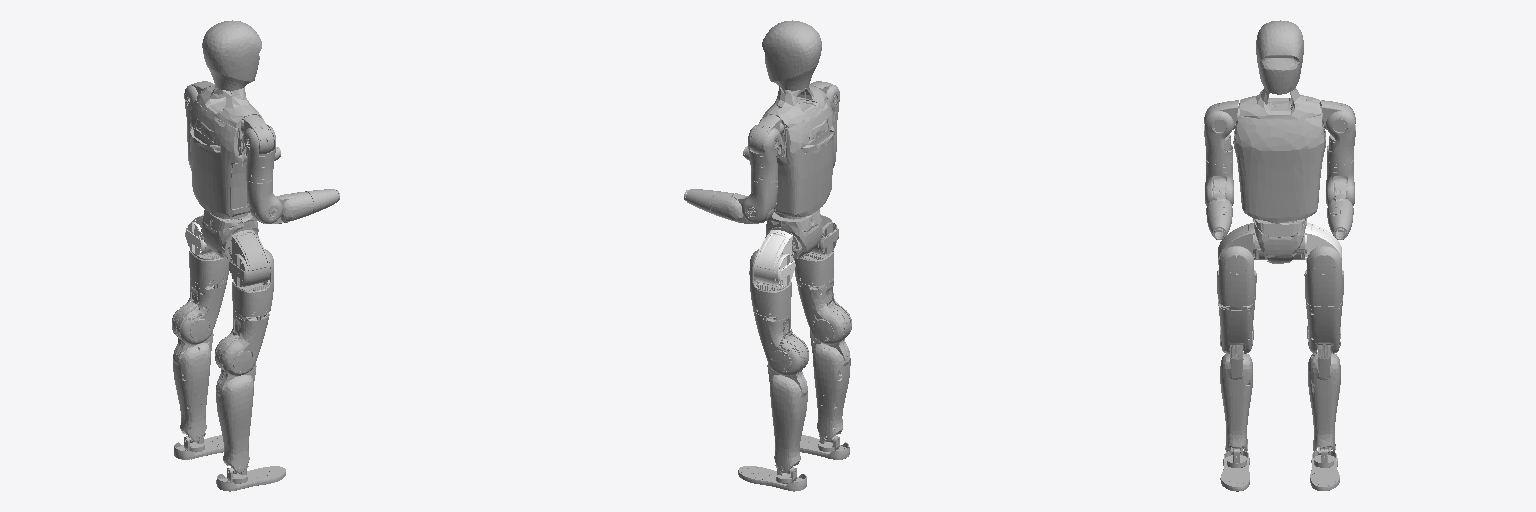
--- Facts derived from the render (not from the file) ---
Views: 3 orthographic renders of the robot side by side, from view 1: azimuth 30°, elevation 25°; view 2: azimuth 150°, elevation 25°; view 3: azimuth 270°, elevation 25°.
Robot: MagicBotZ1 — 31 links, 30 joints (14 revolute, 16 fixed); root link pelvis; default pose: all joints at 0.
Links seen in each view (by area): view 1: link_wy, LINK_KNEE_PITCH_L, LINK_KNEE_PITCH_R, link_hy, LINK_HIP_YAW_R, LINK_HIP_YAW_L, LINK_HIP_PITCH_R, pelvis, LINK_HIP_ROLL_R, link_ra2, LINK_ANKLE_ROLL_R, LINK_HIP_ROLL_L (+5 smaller); view 2: link_wy, LINK_KNEE_PITCH_L, LINK_KNEE_PITCH_R, link_hy, LINK_HIP_YAW_R, LINK_HIP_YAW_L, LINK_HIP_PITCH_L, pelvis, LINK_HIP_ROLL_L, link_la2, LINK_ANKLE_ROLL_L, LINK_HIP_ROLL_R (+5 smaller); view 3: link_wy, link_hy, LINK_KNEE_PITCH_L, LINK_KNEE_PITCH_R, LINK_HIP_ROLL_R, LINK_HIP_ROLL_L, pelvis, LINK_HIP_YAW_R, LINK_HIP_YAW_L, link_ra2, link_la2, LINK_ANKLE_ROLL_R (+9 smaller).
Link boxes in pixels (box(x1,y1,x2,y2)): link_wy: box(190, 86, 264, 218); LINK_KNEE_PITCH_L: box(173, 304, 213, 441); LINK_KNEE_PITCH_R: box(216, 335, 256, 473); link_hy: box(202, 20, 261, 90); LINK_HIP_YAW_R: box(215, 310, 269, 375); LINK_HIP_YAW_L: box(172, 278, 226, 344); LINK_HIP_PITCH_R: box(229, 230, 270, 286); pelvis: box(201, 210, 258, 259); LINK_HIP_ROLL_R: box(232, 249, 273, 316); link_ra2: box(243, 125, 275, 182); LINK_ANKLE_ROLL_R: box(216, 466, 285, 491); LINK_HIP_ROLL_L: box(189, 250, 229, 285); link_wy: box(760, 85, 834, 218); LINK_KNEE_PITCH_L: box(767, 336, 807, 472); LINK_KNEE_PITCH_R: box(810, 304, 850, 441); link_hy: box(762, 20, 821, 90); LINK_HIP_YAW_R: box(796, 278, 851, 344); LINK_HIP_YAW_L: box(753, 310, 808, 375); LINK_HIP_PITCH_L: box(754, 230, 795, 286); pelvis: box(765, 209, 822, 259); LINK_HIP_ROLL_L: box(749, 249, 791, 316); link_la2: box(748, 125, 780, 182); LINK_ANKLE_ROLL_L: box(738, 465, 806, 491); LINK_HIP_ROLL_R: box(795, 250, 833, 285); link_wy: box(1233, 88, 1325, 223); link_hy: box(1256, 20, 1303, 94); LINK_KNEE_PITCH_L: box(1308, 343, 1340, 454); LINK_KNEE_PITCH_R: box(1220, 345, 1252, 454); LINK_HIP_ROLL_R: box(1217, 246, 1256, 306); LINK_HIP_ROLL_L: box(1304, 246, 1343, 306); pelvis: box(1253, 218, 1306, 263); LINK_HIP_YAW_R: box(1218, 299, 1255, 353); LINK_HIP_YAW_L: box(1306, 302, 1342, 353); link_ra2: box(1204, 103, 1233, 164); link_la2: box(1326, 103, 1355, 164); LINK_ANKLE_ROLL_R: box(1220, 449, 1249, 491).
Bounding box of the posed robot: 0.3639 × 0.4216 × 1.37 m (x, y, z).
Meshes: 25 distinct files referenced, 25 mesh visuals loaded (25 binary STL).

The robot description file, URDF, robot "MagicBotZ1":
<?xml version="1.0" encoding="utf-8"?>
<!-- This URDF was automatically created by SolidWorks to URDF Exporter! Originally created by Stephen Brawner ([email redacted]) 
     Commit Version: 1.6.0-4-g7f85cfe  Build Version: 1.6.7995.38578
     For more information, please see http://wiki.ros.org/sw_urdf_exporter -->
<robot
  name="MagicBotZ1">
  <link
    name="pelvis">
    <inertial>
      <origin
        xyz="0.0001 0 0.0044"
        rpy="0 0 0" />
      <mass
        value="3.4083" />
      <inertia
        ixx="0.0095"
        ixy="0"
        ixz="0"
        iyy="0.0056"
        iyz="0"
        izz="0.0094" />
    </inertial>
    <visual>
      <origin
        xyz="0 0 0"
        rpy="0 0 0" />
      <geometry>
        <mesh
          filename="../meshes/pelvis.STL" />
      </geometry>
      <material
        name="">
        <color
          rgba="0.75294 0.75294 0.75294 1" />
      </material>
    </visual>
  </link>
  <link
    name="LINK_HIP_PITCH_L">
    <inertial>
      <origin
        xyz="-0.0002 0.0495 -0.0399"
        rpy="0 0 0" />
      <mass
        value="1.5089" />
      <inertia
        ixx="0.002"
        ixy="0"
        ixz="0"
        iyy="0.0016"
        iyz="0.0003"
        izz="0.0014" />
    </inertial>
    <visual>
      <origin
        xyz="0 0 0"
        rpy="0 0 0" />
      <geometry>
        <mesh
          filename="../meshes/LINK_HIP_PITCH_L.STL" />
      </geometry>
      <material
        name="">
        <color
          rgba="1 1 1 1" />
      </material>
    </visual>
    <!-- <collision>
      <origin
        xyz="0 0 0"
        rpy="0 0 0" />
      <geometry>
        <mesh
          filename="../meshes/LINK_HIP_PITCH_L.STL" />
      </geometry>
    </collision> -->
  </link>
  <joint
    name="JOINT_HIP_PITCH_L"
    type="revolute">
    <origin
      xyz="0 0.06875 0"
      rpy="0 0 0" />
    <parent
      link="pelvis" />
    <child
      link="LINK_HIP_PITCH_L" />
    <axis
      xyz="0 1 0" />
    <limit
      lower="-2.7925"
      upper="2.7925"
      effort="120"
      velocity="20" />
  </joint>
  <link
    name="LINK_HIP_ROLL_L">
    <inertial>
      <origin
        xyz="0.0066 -0.0001 -0.0869"
        rpy="0 0 0" />
      <mass
        value="1.9215" />
      <inertia
        ixx="0.0035"
        ixy="0"
        ixz="-0.0007"
        iyy="0.0036"
        iyz="0"
        izz="0.0026" />
    </inertial>
    <visual>
      <origin
        xyz="0 0 0"
        rpy="0 0 0" />
      <geometry>
        <mesh
          filename="../meshes/LINK_HIP_ROLL_L.STL" />
      </geometry>
      <material
        name="">
        <color
          rgba="0.75294 0.75294 0.75294 1" />
      </material>
    </visual>
    <!-- <collision>
      <origin
        xyz="0 0 0"
        rpy="0 0 0" />
      <geometry>
        <mesh
          filename="../meshes/LINK_HIP_ROLL_L.STL" />
      </geometry>
    </collision> -->
  </link>
  <joint
    name="JOINT_HIP_ROLL_L"
    type="revolute">
    <origin
      xyz="0 0.053724 -0.045579"
      rpy="0 0 0" />
    <parent
      link="LINK_HIP_PITCH_L" />
    <child
      link="LINK_HIP_ROLL_L" />
    <axis
      xyz="1 0 0" />
    <limit
      lower="-0.524"
      upper="2.967"
      effort="120"
      velocity="20" />
  </joint>
  <link
    name="LINK_HIP_YAW_L">
    <inertial>
      <origin
        xyz="-0.0188 -0.0041 -0.0763"
        rpy="0 0 0" />
      <mass
        value="0.9002" />
      <inertia
        ixx="0.0036"
        ixy="-0.0001"
        ixz="-0.0009"
        iyy="0.0038"
        iyz="-0.0001"
        izz="0.002" />
    </inertial>
    <visual>
      <origin
        xyz="0 0 0"
        rpy="0 0 0" />
      <geometry>
        <mesh
          filename="../meshes/LINK_HIP_YAW_L.STL" />
      </geometry>
      <material
        name="">
        <color
          rgba="0.75294 0.75294 0.75294 1" />
      </material>
    </visual>
    <!-- <collision>
      <origin
        xyz="0 0 0"
        rpy="0 0 0" />
      <geometry>
        <mesh
          filename="../meshes/LINK_HIP_YAW_L.STL" />
      </geometry>
    </collision> -->
  </link>
  <joint
    name="JOINT_HIP_YAW_L"
    type="revolute">
    <origin
      xyz="-0.00084052 0 -0.1255"
      rpy="0 0 0" />
    <parent
      link="LINK_HIP_ROLL_L" />
    <child
      link="LINK_HIP_YAW_L" />
    <axis
      xyz="0 0 1" />
    <limit
      lower="-2.7925"
      upper="2.7925"
      effort="120"
      velocity="20" />
  </joint>
  <link
    name="LINK_KNEE_PITCH_L">
    <inertial>
      <origin
        xyz="0.0009 -0.0007 -0.101"
        rpy="0 0 0" />
      <mass
        value="3.7275" />
      <inertia
        ixx="0.0406"
        ixy="0"
        ixz="0.0004"
        iyy="0.0412"
        iyz="0.0004"
        izz="0.0064" />
    </inertial>
    <visual>
      <origin
        xyz="0 0 0"
        rpy="0 0 0" />
      <geometry>
        <mesh
          filename="../meshes/LINK_KNEE_PITCH_L.STL" />
      </geometry>
      <material
        name="">
        <color
          rgba="0.75294 0.75294 0.75294 1" />
      </material>
    </visual>
    <collision>
      <origin
        xyz="0 0 0"
        rpy="0 0 0" />
      <geometry>
        <mesh
          filename="../meshes/LINK_KNEE_PITCH_L.STL" />
      </geometry>
    </collision>
  </link>
  <joint
    name="JOINT_KNEE_PITCH_L"
    type="revolute">
    <origin
      xyz="-0.052111 0 -0.13729"
      rpy="0 0 0" />
    <parent
      link="LINK_HIP_YAW_L" />
    <child
      link="LINK_KNEE_PITCH_L" />
    <axis
      xyz="0 1 0" />
    <limit
      lower="0"
      upper="2.653"
      effort="120"
      velocity="20" />
  </joint>
  <link
    name="LINK_ANKLE_PITCH_L">
    <inertial>
      <origin
        xyz="0.00094063 5.0401E-07 -0.0083154"
        rpy="0 0 0" />
      <mass
        value="0.048544" />
      <inertia
        ixx="1.033E-05"
        ixy="0"
        ixz="0"
        iyy="1.12E-05"
        iyz="0"
        izz="1.1E-05" />
    </inertial>
    <visual>
      <origin
        xyz="0 0 0"
        rpy="0 0 0" />
      <geometry>
        <mesh
          filename="../meshes/LINK_ANKLE_PITCH_L.STL" />
      </geometry>
      <material
        name="">
        <color
          rgba="0.75294 0.75294 0.75294 1" />
      </material>
    </visual>
    <!-- <collision>
      <origin
        xyz="0 0 0"
        rpy="0 0 0" />
      <geometry>
        <mesh
          filename="../meshes/LINK_ANKLE_PITCH_L.STL" />
      </geometry>
    </collision> -->
  </link>
  <joint
    name="JOINT_ANKLE_PITCH_L"
    type="revolute">
    <origin
      xyz="0 0 -0.34"
      rpy="0 0 0" />
    <parent
      link="LINK_KNEE_PITCH_L" />
    <child
      link="LINK_ANKLE_PITCH_L" />
    <axis
      xyz="0 1 0" />
    <limit
      lower="-0.873"
      upper="0.524"
      effort="50"
      velocity="15" />
  </joint>
  <link
    name="LINK_ANKLE_ROLL_L">
    <inertial>
      <origin
        xyz="0.041316 0.00048241 -0.031752"
        rpy="0 0 0" />
      <mass
        value="0.7019" />
      <inertia
        ixx="0.0004"
        ixy="0"
        ixz="0.0001"
        iyy="0.0023"
        iyz="0"
        izz="0.0024" />
    </inertial>
    <visual>
      <origin
        xyz="0 0 0"
        rpy="0 0 0" />
      <geometry>
        <mesh
          filename="../meshes/LINK_ANKLE_ROLL_L.STL" />
      </geometry>
      <material
        name="">
        <color
          rgba="0.75294 0.75294 0.75294 1" />
      </material>
    </visual>
    <!-- <collision>
      <origin
        xyz="0 0 0"
        rpy="0 0 0" />
      <geometry>
        <mesh
          filename="../meshes/LINK_ANKLE_ROLL_L.STL" />
      </geometry>
    </collision> -->
    <collision>
      <origin
        xyz="0.0441 0 -0.04476"
        rpy="0 0 0" />
      <geometry>
        <box size="0.21622 0.050 0.02" />
      </geometry>
    </collision>
  </link>
  <joint
    name="JOINT_ANKLE_ROLL_L"
    type="revolute">
    <origin
      xyz="0 0 -0.018"
      rpy="0 0 0" />
    <parent
      link="LINK_ANKLE_PITCH_L" />
    <child
      link="LINK_ANKLE_ROLL_L" />
    <axis
      xyz="1 0 0" />
    <limit
      lower="-0.262"
      upper="0.262"
      effort="50"
      velocity="15" />
  </joint>

  <link name="LINK_FOOT_L">
    <inertial>
      <origin xyz="0.000000 0.000000 0.000000" rpy="0 0 0" />
      <mass value="1e-12" />
      <inertia ixx="1e-12" ixy="0.000000" ixz="0.000000" iyy="1e-12" iyz="0.000000" izz="1e-12" />
    </inertial>
  </link>
  <joint name="J_FOOT_L" type="fixed">
    <origin xyz="-0. 0.000000 -0.0447600" rpy="0 0 0" />
    <parent link="LINK_ANKLE_ROLL_L" />
    <child link="LINK_FOOT_L" />
    <axis xyz="0 0 1" />
  </joint>
  <link name="LINK_TOE_L">
    <inertial>
      <origin xyz="0 0 0" rpy="0 0 0" />
      <mass value="1e-12" />
      <inertia ixx="1e-12" ixy="0" ixz="0" iyy="1e-12" iyz="0" izz="1e-12" />
    </inertial>
  </link>
  <joint name="JOINT_TOE_L" type="fixed" dont_collapse="true">
    <origin xyz="0.152 0 0" rpy="0 0 0" />
    <parent link="LINK_FOOT_L" />
    <child link="LINK_TOE_L" />
    <axis xyz="0 1 0" />
  </joint>

  <!-- ###################################################################-->  
  <!-- ###########################  r_leg ################################-->  
  <!-- ###################################################################-->  
  <link
    name="LINK_HIP_PITCH_R">
    <inertial>
      <origin
        xyz="-0.0002 -0.0492 -0.0399"
        rpy="0 0 0" />
      <mass
        value="1.5089" />
      <inertia
        ixx="0.002"
        ixy="0"
        ixz="0"
        iyy="0.0016"
        iyz="-0.0003"
        izz="0.0014" />
    </inertial>
    <visual>
      <origin
        xyz="0 0 0"
        rpy="0 0 0" />
      <geometry>
        <mesh
          filename="../meshes/LINK_HIP_PITCH_R.STL" />
      </geometry>
      <material
        name="">
        <color
          rgba="0.75294 0.75294 0.75294 1" />
      </material>
    </visual>
    <!-- <collision>
      <origin
        xyz="0 0 0"
        rpy="0 0 0" />
      <geometry>
        <mesh
          filename="../meshes/LINK_HIP_PITCH_R.STL" />
      </geometry>
    </collision> -->
  </link>
  <joint
    name="JOINT_HIP_PITCH_R"
    type="revolute">
    <origin
      xyz="0 -0.06875 0"
      rpy="0 0 0" />
    <parent
      link="pelvis" />
    <child
      link="LINK_HIP_PITCH_R" />
    <axis
      xyz="0 1 0" />
    <limit
      lower="-2.7925"
      upper="2.7925"
      effort="120"
      velocity="20" />
  </joint>
  <link
    name="LINK_HIP_ROLL_R">
    <inertial>
      <origin
        xyz="0.0069 0.0029 -0.0869"
        rpy="0 0 0" />
      <mass
        value="1.9215" />
      <inertia
        ixx="0.0035"
        ixy="0"
        ixz="-0.0007"
        iyy="0.0036"
        iyz="0"
        izz="0.0026" />
    </inertial>
    <visual>
      <origin
        xyz="0 0 0"
        rpy="0 0 0" />
      <geometry>
        <mesh
          filename="../meshes/LINK_HIP_ROLL_R.STL" />
      </geometry>
      <material
        name="">
        <color
          rgba="0.75294 0.75294 0.75294 1" />
      </material>
    </visual>
    <!-- <collision>
      <origin
        xyz="0 0 0"
        rpy="0 0 0" />
      <geometry>
        <mesh
          filename="../meshes/LINK_HIP_ROLL_R.STL" />
      </geometry>
    </collision> -->
  </link>
  <joint
    name="JOINT_HIP_ROLL_R"
    type="revolute">
    <origin
      xyz="0 -0.053724 -0.045579"
      rpy="0 0 0" />
    <parent
      link="LINK_HIP_PITCH_R" />
    <child
      link="LINK_HIP_ROLL_R" />
    <axis
      xyz="1 0 0" />
    <limit
      lower="-2.967"
      upper="0.524"
      effort="120"
      velocity="20" />
  </joint>
  <link
    name="LINK_HIP_YAW_R">
    <inertial>
      <origin
        xyz="-0.0188 0.0027 -0.0763"
        rpy="0 0 0" />
      <mass
        value="0.9002" />
      <inertia
        ixx="0.0036"
        ixy="0.0001"
        ixz="-0.0009"
        iyy="0.0038"
        iyz="0.0001"
        izz="0.002" />
    </inertial>
    <visual>
      <origin
        xyz="0 0 0"
        rpy="0 0 0" />
      <geometry>
        <mesh
          filename="../meshes/LINK_HIP_YAW_R.STL" />
      </geometry>
      <material
        name="">
        <color
          rgba="0.75294 0.75294 0.75294 1" />
      </material>
    </visual>
    <!-- <collision>
      <origin
        xyz="0 0 0"
        rpy="0 0 0" />
      <geometry>
        <mesh
          filename="../meshes/LINK_HIP_YAW_R.STL" />
      </geometry>
    </collision> -->
  </link>
  <joint
    name="JOINT_HIP_YAW_R"
    type="revolute">
    <origin
      xyz="-0.00050599 0.0029213 -0.12555"
      rpy="0 0 0" />
    <parent
      link="LINK_HIP_ROLL_R" />
    <child
      link="LINK_HIP_YAW_R" />
    <axis
      xyz="0 0 1" />
    <limit
      lower="-2.7925"
      upper="2.7925"
      effort="120"
      velocity="20" />
  </joint>
  <link
    name="LINK_KNEE_PITCH_R">
    <inertial>
      <origin
        xyz="0.0009 0.0009 -0.101"
        rpy="0 0 0" />
      <mass
        value="3.7292" />
      <inertia
        ixx="0.0406"
        ixy="0"
        ixz="0.0004"
        iyy="0.0412"
        iyz="-0.0003"
        izz="0.0064" />
    </inertial>
    <visual>
      <origin
        xyz="0 0 0"
        rpy="0 0 0" />
      <geometry>
        <mesh
          filename="../meshes/LINK_KNEE_PITCH_R.STL" />
      </geometry>
      <material
        name="">
        <color
          rgba="0.75294 0.75294 0.75294 1" />
      </material>
    </visual>
    <collision>
      <origin
        xyz="0 0 0"
        rpy="0 0 0" />
      <geometry>
        <mesh
          filename="../meshes/LINK_KNEE_PITCH_R.STL" />
      </geometry>
    </collision>
  </link>
  <joint
    name="JOINT_KNEE_PITCH_R"
    type="revolute">
    <origin
      xyz="-0.052111 0 -0.13729"
      rpy="0 0 0" />
    <parent
      link="LINK_HIP_YAW_R" />
    <child
      link="LINK_KNEE_PITCH_R" />
    <axis
      xyz="0 1 0" />
    <limit
      lower="0"
      upper="2.653"
      effort="120"
      velocity="20" />
  </joint>
  <link
    name="LINK_ANKLE_PITCH_R">
    <inertial>
      <origin
        xyz="0.0009 0 -0.0083"
        rpy="0 0 0" />
      <mass
        value="0.048544" />
      <inertia
        ixx="1.033E-05"
        ixy="0"
        ixz="0"
        iyy="1.12E-05"
        iyz="0"
        izz="1.1E-05" />
    </inertial>
    <visual>
      <origin
        xyz="0 0 0"
        rpy="0 0 0" />
      <geometry>
        <mesh
          filename="../meshes/LINK_ANKLE_PITCH_R.STL" />
      </geometry>
      <material
        name="">
        <color
          rgba="0.75294 0.75294 0.75294 1" />
      </material>
    </visual>
    <!-- <collision>
      <origin
        xyz="0 0 0"
        rpy="0 0 0" />
      <geometry>
        <mesh
          filename="../meshes/LINK_ANKLE_PITCH_R.STL" />
      </geometry>
    </collision> -->
  </link>
  <joint
    name="JOINT_ANKLE_PITCH_R"
    type="revolute">
    <origin
      xyz="0 0 -0.34"
      rpy="0 0 0" />
    <parent
      link="LINK_KNEE_PITCH_R" />
    <child
      link="LINK_ANKLE_PITCH_R" />
    <axis
      xyz="0 1 0" />
    <limit
      lower="-0.873"
      upper="0.524"
      effort="50"
      velocity="15" />
  </joint>
  <link
    name="LINK_ANKLE_ROLL_R">
    <inertial>
      <origin
        xyz="0.041294 -0.0010615 -0.031752"
        rpy="0 0 0" />
      <mass
        value="0.70183" />
      <inertia
        ixx="0.0004"
        ixy="0"
        ixz="0.0001"
        iyy="0.0023"
        iyz="0"
        izz="0.0024" />
    </inertial>
    <visual>
      <origin
        xyz="0 0 0"
        rpy="0 0 0" />
      <geometry>
        <mesh
          filename="../meshes/LINK_ANKLE_ROLL_R.STL" />
      </geometry>
      <material
        name="">
        <color
          rgba="0.75294 0.75294 0.75294 1" />
      </material>
    </visual>
    <!-- <collision>
      <origin
        xyz="0 0 0"
        rpy="0 0 0" />
      <geometry>
        <mesh
          filename="../meshes/LINK_ANKLE_ROLL_R.STL" />
      </geometry>
    </collision> -->
    <collision>
        <origin
          xyz="0.0441 0 -0.04476"
          rpy="0 0 0" />
        <geometry>
          <box size="0.21622 0.050 0.02" />
        </geometry>
      </collision>
  </link>
  <joint
    name="JOINT_ANKLE_ROLL_R"
    type="revolute">
    <origin
      xyz="0 0 -0.018"
      rpy="0 0 0" />
    <parent
      link="LINK_ANKLE_PITCH_R" />
    <child
      link="LINK_ANKLE_ROLL_R" />
    <axis
      xyz="1 0 0" />
    <limit
      lower="-0.262"
      upper="0.262"
      effort="50"
      velocity="15" />
  </joint>

  <link name="LINK_FOOT_R">
    <inertial>
      <origin xyz="0.000000 0.000000 0.000000" rpy="0 0 0" />
      <mass value="1e-12" />
      <inertia ixx="1e-12" ixy="0.000000" ixz="0.000000" iyy="1e-12" iyz="0.000000" izz="1e-12" />
    </inertial>
  </link>
  <joint name="J_FOOT_R" type="fixed">
    <origin xyz="0.000000 0.000000 -0.044760000" rpy="0 0 0" />
    <parent link="LINK_ANKLE_ROLL_R" />
    <child link="LINK_FOOT_R" />
    <axis xyz="0 0 1" />
  </joint>
  <link name="LINK_TOE_R">
    <inertial>
      <origin xyz="0 0 0" rpy="0 0 0" />
      <mass value="1e-12" />
      <inertia ixx="1e-12" ixy="0" ixz="0" iyy="1e-12" iyz="0" izz="1e-12" />
    </inertial>
  </link>
  <joint name="JOINT_TOE_R" type="fixed" dont_collapse="true">
    <origin xyz="0.152 0 0" rpy="0 0 0" />
    <parent link="LINK_FOOT_R" />
    <child link="LINK_TOE_R" />
    <axis xyz="1 0 0" />
  </joint>

  <!-- ###################################################################-->  
  <!-- ###########################  waist ################################-->  
  <!-- ###################################################################-->  
  <link
    name="link_wy">
    <inertial>
      <origin
        xyz="0.0061 0.0003 0.1879"
        rpy="0 0 0" />
      <mass
        value="9.8779" />
      <inertia
        ixx="0.1556"
        ixy="0"
        ixz="-0.0015"
        iyy="0.1368"
        iyz="0"
        izz="0.0457" />
    </inertial>
    <visual>
      <origin
        xyz="0 0 0"
        rpy="0 0 0" />
      <geometry>
        <mesh
          filename="../meshes/link_wy.STL" />
      </geometry>
      <material
        name="">
        <color
          rgba="0.75294 0.75294 0.75294 1" />
      </material>
    </visual>
    <collision>
      <origin
        xyz="0 0 0"
        rpy="0 0 0" />
      <geometry>
        <mesh
          filename="../meshes/link_wy.STL" />
      </geometry>
    </collision>
  </link>
  <joint
    name="joint_wy"
    type="fixed">
    <origin
      xyz="0 0 0.0619"
      rpy="0 0 0" />
    <parent
      link="pelvis" />
    <child
      link="link_wy" />
    <axis
      xyz="0 0 1" />
    <limit
      lower="-2.79"
      upper="2.79"
      effort="120"
      velocity="20" />
  </joint>  
  <!-- ###################################################################-->  
  <!-- ###########################  l_arm ################################-->  
  <!-- ###################################################################-->  
  <link
    name="link_la1">
    <inertial>
      <origin
        xyz="0.0033 0.0422 -0.0117"
        rpy="0 0 0" />
      <mass
        value="0.8939" />
      <inertia
        ixx="0.001"
        ixy="0"
        ixz="0"
        iyy="0.0007"
        iyz="0.0001"
        izz="0.0009" />
    </inertial>
    <visual>
      <origin
        xyz="0 0 0"
        rpy="0 0 0" />
      <geometry>
        <mesh
          filename="../meshes/link_la1.STL" />
      </geometry>
      <material
        name="">
        <color
          rgba="0.75294 0.75294 0.75294 1" />
      </material>
    </visual>
    <!-- <collision>
      <origin
        xyz="0 0 0"
        rpy="0 0 0" />
      <geometry>
        <mesh
          filename="../meshes/link_la1.STL" />
      </geometry>
    </collision> -->
  </link>
  <joint
    name="joint_la1"
    type="revolute">
    <origin
      xyz="0 0.11963 0.3208"
      rpy="0 0 0" />
    <parent
      link="link_wy" />
    <child
      link="link_la1" />
    <axis
      xyz="0 0.99255 -0.12187" />
    <limit
      lower="-2.88"
      upper="2.88"
      effort="50"
      velocity="14" />
  </joint>
  <link
    name="link_la2">
    <inertial>
      <origin
        xyz="-0.0006 0.0016 -0.0673"
        rpy="0 0 0" />
      <mass
        value="0.7787" />
      <inertia
        ixx="0.0012"
        ixy="0"
        ixz="0"
        iyy="0.0013"
        iyz="0"
        izz="0.0007" />
    </inertial>
    <visual>
      <origin
        xyz="0 0 0"
        rpy="0 0 0" />
      <geometry>
        <mesh
          filename="../meshes/link_la2.STL" />
      </geometry>
      <material
        name="">
        <color
          rgba="0.75294 0.75294 0.75294 1" />
      </material>
    </visual>
    <!-- <collision>
      <origin
        xyz="0 0 0"
        rpy="0 0 0" />
      <geometry>
        <mesh
          filename="../meshes/link_la2.STL" />
      </geometry>
    </collision> -->
  </link>
  <joint
    name="joint_la2"
    type="fixed">
    <origin
      xyz="0 0.047187 -0.013786"
      rpy="0 0 0" />
    <parent
      link="link_la1" />
    <child
      link="link_la2" />
    <axis
      xyz="1 0 0" />
    <limit
      lower="-0.175"
      upper="2.2515"
      effort="50"
      velocity="14" />
  </joint>
  <link
    name="link_la3">
    <inertial>
      <origin
        xyz="0.0035409 -0.00073964 -0.044592"
        rpy="0 0 0" />
      <mass
        value="0.35928" />
      <inertia
        ixx="0.0009"
        ixy="0"
        ixz="0.0001"
        iyy="0.0008"
        iyz="0"
        izz="0.0005" />
    </inertial>
    <visual>
      <origin
        xyz="0 0 0"
        rpy="0 0 0" />
      <geometry>
        <mesh
          filename="../meshes/link_la3.STL" />
      </geometry>
      <material
        name="">
        <color
          rgba="0.75294 0.75294 0.75294 1" />
      </material>
    </visual>
    <!-- <collision>
      <origin
        xyz="0 0 0"
        rpy="0 0 0" />
      <geometry>
        <mesh
          filename="../meshes/link_la3.STL" />
      </geometry>
    </collision> -->
  </link>
  <joint
    name="joint_la3"
    type="fixed">
    <origin
      xyz="0 0 -0.1171"
      rpy="0 0 0" />
    <parent
      link="link_la2" />
    <child
      link="link_la3" />
    <axis
      xyz="0 0 1" />
    <limit
      lower="-2.618"
      upper="2.618"
      effort="50"
      velocity="14" />
  </joint>
  <link
    name="link_la4">
    <inertial>
      <origin
        xyz="0.0447 -0.0015 -0.0086458"
        rpy="0 0 0" />
      <mass
        value="1.48" />
      <inertia
        ixx="0.0012"
        ixy="0.0001"
        ixz="0.0006"
        iyy="0.0046"
        iyz="0"
        izz="0.0044" />
    </inertial>
    <visual>
      <origin
        xyz="0 0 0"
        rpy="0 0 0" />
      <geometry>
        <mesh
          filename="../meshes/link_la4.STL" />
      </geometry>
      <material
        name="">
        <color
          rgba="0.75294 0.75294 0.75294 1" />
      </material>
    </visual>
    <collision>
      <origin
        xyz="0 0 0"
        rpy="0 0 0" />
      <geometry>
        <mesh
          filename="../meshes/link_la4.STL" />
      </geometry>
    </collision>
  </link>
  <joint
    name="joint_la4"
    type="fixed">
    <origin
      xyz="0.01924 0 -0.0979"
      rpy="0 0 0" />
    <parent
      link="link_la3" />
    <child
      link="link_la4" />
    <axis
      xyz="0 1 0" />
    <limit
      lower="-0.96"
      upper="2.0944"
      effort="50"
      velocity="14" />
  </joint>
  <link
    name="link_la5">
    <inertial>
      <origin
        xyz="0.025808 0.00016898 0.00074869"
        rpy="0 0 0" />
      <mass
        value="0.2728" />
      <inertia
        ixx="0.0002"
        ixy="0"
        ixz="0"
        iyy="0.0003"
        iyz="0"
        izz="0.0003" />
    </inertial>
    <visual>
      <origin
        xyz="0 0 0"
        rpy="0 0 0" />
      <geometry>
        <mesh
          filename="../meshes/link_la5.STL" />
      </geometry>
      <material
        name="">
        <color
          rgba="0.75294 0.75294 0.75294 1" />
      </material>
    </visual>
    <collision>
      <origin
        xyz="0 0 0"
        rpy="0 0 0" />
      <geometry>
        <mesh
          filename="../meshes/link_la5.STL" />
      </geometry>
    </collision>
  </link>
  <joint
    name="joint_la5"
    type="fixed">
    <origin
      xyz="0.138 0 -0.017415"
      rpy="0 0 0" />
    <parent
      link="link_la4" />
    <child
      link="link_la5" />
    <axis
      xyz="1 0 0" />
    <limit
      lower="-2.618"
      upper="2.618"
      effort="50"
      velocity="14" />
  </joint>

  <link name="LINK_HAND_L">
    <inertial>
      <origin xyz="0.000000 0.000000 0.000000" rpy="0 0 0" />
      <mass value="1e-12" />
      <inertia ixx="1e-12" ixy="0.000000" ixz="0.000000" iyy="1e-12" iyz="0.000000" izz="1e-12" />
    </inertial>
  </link>
  <joint name="J_HAND_L" type="fixed" dont_collapse="true">
    <origin xyz="0.138 0.000000 -0." rpy="0 0 0" />
    <parent link="link_la5" />
    <child link="LINK_HAND_L" />
    <axis xyz="0 0 1" />
  </joint>

  <!-- ###################################################################-->  
  <!-- ###########################  r_arm ################################-->  
  <!-- ###################################################################-->  
  <link
    name="link_ra1">
    <inertial>
      <origin
        xyz="0.0032 -0.0422 -0.0117"
        rpy="0 0 0" />
      <mass
        value="0.8976" />
      <inertia
        ixx="0.001"
        ixy="0"
        ixz="0"
        iyy="0.0007"
        iyz="-0.0001"
        izz="0.0009" />
    </inertial>
    <visual>
      <origin
        xyz="0 0 0"
        rpy="0 0 0" />
      <geometry>
        <mesh
          filename="../meshes/link_ra1.STL" />
      </geometry>
      <material
        name="">
        <color
          rgba="0.75294 0.75294 0.75294 1" />
      </material>
    </visual>
    <!-- <collision>
      <origin
        xyz="0 0 0"
        rpy="0 0 0" />
      <geometry>
        <mesh
          filename="../meshes/link_ra1.STL" />
      </geometry>
    </collision> -->
  </link>
  <joint
    name="joint_ra1"
    type="revolute">
    <origin
      xyz="0 -0.11963 0.3208"
      rpy="0 0 0" />
    <parent
      link="link_wy" />
    <child
      link="link_ra1" />
    <axis
      xyz="0 0.99255 -0.12187" />
    <limit
      lower="-2.88"
      upper="2.88"
      effort="50"
      velocity="14" />
  </joint>
  <link
    name="link_ra2">
    <inertial>
      <origin
        xyz="-0.0005 -0.0016 -0.0678"
        rpy="0 0 0" />
      <mass
        value="0.7868" />
      <inertia
        ixx="0.0012"
        ixy="0"
        ixz="0"
        iyy="0.0013"
        iyz="0"
        izz="0.0007" />
    </inertial>
    <visual>
      <origin
        xyz="0 0 0"
        rpy="0 0 0" />
      <geometry>
        <mesh
          filename="../meshes/link_ra2.STL" />
      </geometry>
      <material
        name="">
        <color
          rgba="0.75294 0.75294 0.75294 1" />
      </material>
    </visual>
    <!-- <collision>
      <origin
        xyz="0 0 0"
        rpy="0 0 0" />
      <geometry>
        <mesh
          filename="../meshes/link_ra2.STL" />
      </geometry>
    </collision> -->
  </link>
  <joint
    name="joint_ra2"
    type="fixed">
    <origin
      xyz="0 -0.047187 -0.013786"
      rpy="0 0 0" />
    <parent
      link="link_ra1" />
    <child
      link="link_ra2" />
    <axis
      xyz="1 0 0" />
    <limit
      lower="-2.2515"
      upper="0.175"
      effort="50"
      velocity="14" />
  </joint>
  <link
    name="link_ra3">
    <inertial>
      <origin
        xyz="0.0035415 0.0007384 -0.044591"
        rpy="0 0 0" />
      <mass
        value="0.3593" />
      <inertia
        ixx="0.0009"
        ixy="0"
        ixz="0.0001"
        iyy="0.0008"
        iyz="0"
        izz="0.0005" />
    </inertial>
    <visual>
      <origin
        xyz="0 0 0"
        rpy="0 0 0" />
      <geometry>
        <mesh
          filename="../meshes/link_ra3.STL" />
      </geometry>
      <material
        name="">
        <color
          rgba="0.75294 0.75294 0.75294 1" />
      </material>
    </visual>
    <!-- <collision>
      <origin
        xyz="0 0 0"
        rpy="0 0 0" />
      <geometry>
        <mesh
          filename="../meshes/link_ra3.STL" />
      </geometry>
    </collision> -->
  </link>
  <joint
    name="joint_ra3"
    type="fixed">
    <origin
      xyz="0 0 -0.1171"
      rpy="0 0 0" />
    <parent
      link="link_ra2" />
    <child
      link="link_ra3" />
    <axis
      xyz="0 0 1" />
    <limit
      lower="-2.618"
      upper="2.618"
      effort="50"
      velocity="14" />
  </joint>
  <link
    name="link_ra4">
    <inertial>
      <origin
        xyz="0.0447 0.0015 -0.0087"
        rpy="0 0 0" />
      <mass
        value="1.48" />
      <inertia
        ixx="0.0012"
        ixy="0.0001"
        ixz="0.0006"
        iyy="0.0046"
        iyz="0"
        izz="0.0044" />
    </inertial>
    <visual>
      <origin
        xyz="0 0 0"
        rpy="0 0 0" />
      <geometry>
        <mesh
          filename="../meshes/link_ra4.STL" />
      </geometry>
      <material
        name="">
        <color
          rgba="0.75294 0.75294 0.75294 1" />
      </material>
    </visual>
    <collision>
      <origin
        xyz="0 0 0"
        rpy="0 0 0" />
      <geometry>
        <mesh
          filename="../meshes/link_ra4.STL" />
      </geometry>
    </collision>
  </link>
  <joint
    name="joint_ra4"
    type="fixed">
    <origin
      xyz="0.01924 0 -0.0979"
      rpy="0 0 0" />
    <parent
      link="link_ra3" />
    <child
      link="link_ra4" />
    <axis
      xyz="0 1 0" />
    <limit
      lower="-0.96"
      upper="2.0944"
      effort="50"
      velocity="14" />
  </joint>
  <link
    name="link_ra5">
    <inertial>
      <origin
        xyz="0.025808 -0.0001686 0.00074876"
        rpy="0 0 0" />
      <mass
        value="0.27279" />
      <inertia
        ixx="0.0002"
        ixy="0"
        ixz="0"
        iyy="0.0003"
        iyz="0"
        izz="0.0003" />
    </inertial>
    <visual>
      <origin
        xyz="0 0 0"
        rpy="0 0 0" />
      <geometry>
        <mesh
          filename="../meshes/link_ra5.STL" />
      </geometry>
      <material
        name="">
        <color
          rgba="0.75294 0.75294 0.75294 1" />
      </material>
    </visual>
    <collision>
      <origin
        xyz="0 0 0"
        rpy="0 0 0" />
      <geometry>
        <mesh
          filename="../meshes/link_ra5.STL" />
      </geometry>
    </collision>
  </link>
  <joint
    name="joint_ra5"
    type="fixed">
    <origin
      xyz="0.138 0 -0.017415"
      rpy="0 0 0" />
    <parent
      link="link_ra4" />
    <child
      link="link_ra5" />
    <axis
      xyz="1 0 0" />
    <limit
      lower="-2.618"
      upper="2.618"
      effort="50"
      velocity="14" />
  </joint>

  <link name="LINK_HAND_R">
    <inertial>
      <origin xyz="0.000000 0.000000 0.000000" rpy="0 0 0" />
      <mass value="1e-12" />
      <inertia ixx="1e-12" ixy="0.000000" ixz="0.000000" iyy="1e-12" iyz="0.000000" izz="1e-12" />
    </inertial>
  </link>
  <joint name="J_HAND_R" type="fixed" dont_collapse="true">
    <origin xyz="0.138 0.000000 0.0" rpy="0 0 0" />
    <parent link="link_ra5" />
    <child link="LINK_HAND_R" />
    <axis xyz="0 0 1" />
  </joint>
  
  <!-- ###################################################################-->  
  <!-- ###########################  head  ################################-->  
  <!-- ###################################################################-->  
  <link
    name="link_hy">
    <inertial>
      <origin
        xyz="0.0079 -0.0004 0.0262"
        rpy="0 0 0" />
      <mass
        value="0.7987" />
      <inertia
        ixx="0.0017"
        ixy="0"
        ixz="0"
        iyy="0.0022"
        iyz="0"
        izz="0.0017" />
    </inertial>
    <visual>
      <origin
        xyz="0 0 0"
        rpy="0 0 0" />
      <geometry>
        <mesh
          filename="../meshes/link_hy.STL" />
      </geometry>
      <material
        name="">
        <color
          rgba="0.75294 0.75294 0.75294 1" />
      </material>
    </visual>
    <!-- <collision>
      <origin
        xyz="0 0 0"
        rpy="0 0 0" />
      <geometry>
        <mesh
          filename="../meshes/link_hy.STL" />
      </geometry>
    </collision> -->
  </link>
  <joint
    name="joint_hy"
    type="fixed" dont_collapse="true">
    <origin
      xyz="0 0 0.4889"
      rpy="0 0 0" />
    <parent
      link="link_wy" />
    <child
      link="link_hy" />
    <axis
      xyz="0 0 1" />
    <limit
      lower="-0.6981"
      upper="0.6981"
      effort="50"
      velocity="15" />
  </joint>
  
  
</robot>
